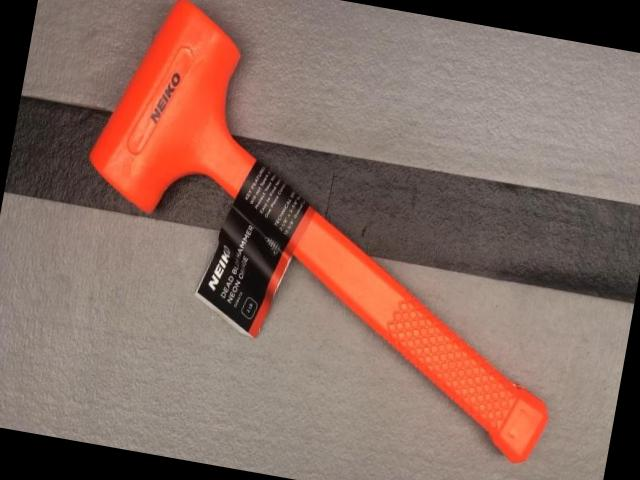hammer: (48, 0, 610, 466)
